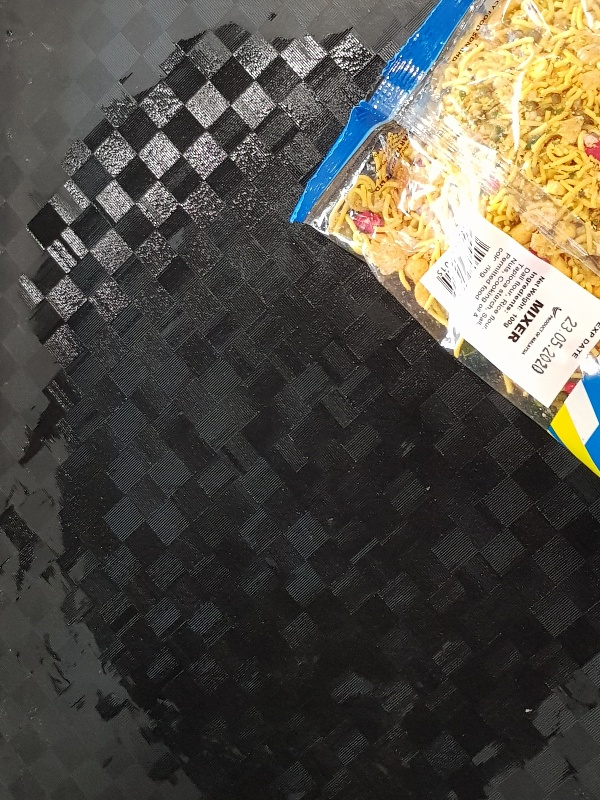Star Tidbits Mixer: (287, 1, 600, 480)
